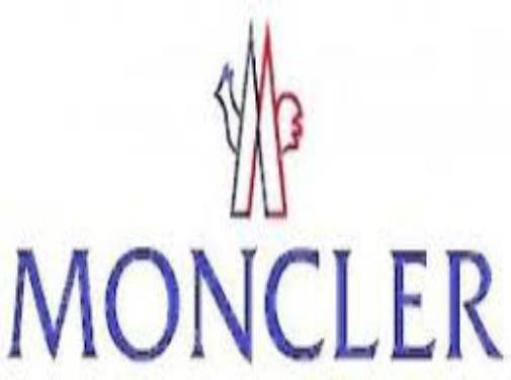MONCLER: (6, 243, 506, 362), (212, 14, 308, 221)
